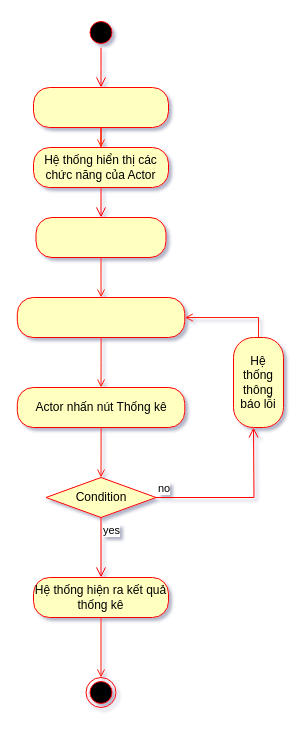
The diagram is 308 pixels wide and 731 high, and some of its shapes have lost their labels. Here are the shapes that lost their labels. From the top down, the box of each, then its label:
(32, 86, 168, 128): Actor thực hiện chức năng đăng nhập
(35, 216, 166, 258): Actor chọn chức năng thống kê
(16, 296, 185, 338): Actor chọn giới hạn ngày tháng muốn thống kê
